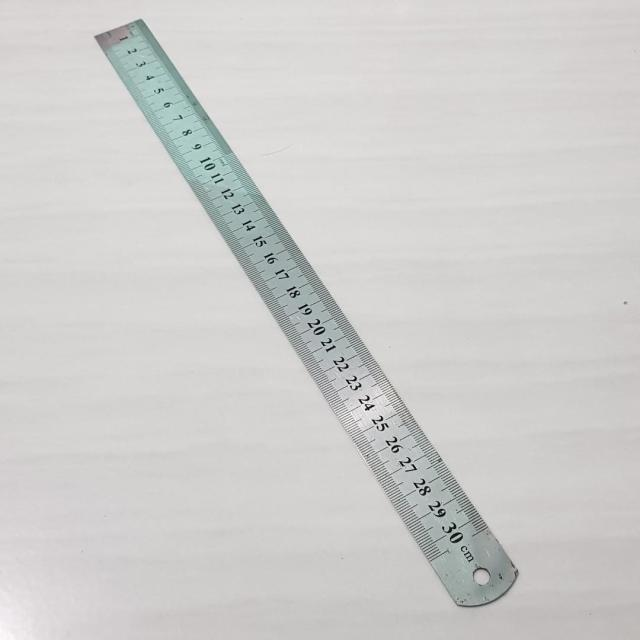Ruler: (96, 20, 517, 606)
